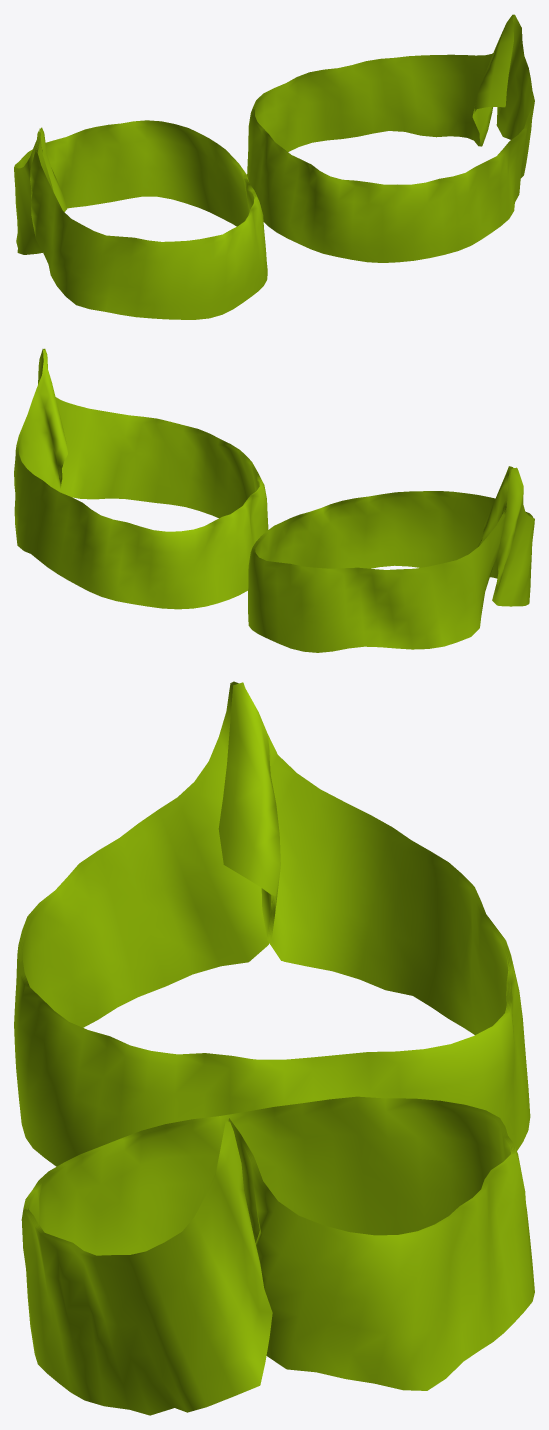
The model's file is tassels-bottom_curve.glb.
3 views of the same model, one above another, from view 1: azimuth 30°, elevation 25°; view 2: azimuth 150°, elevation 25°; view 3: azimuth 270°, elevation 25° (orthographic). The views are drawn at different scales.
Parts seen in each view (by area): view 1: tassels-bottom_curve; view 2: tassels-bottom_curve; view 3: tassels-bottom_curve.
Part boxes in pixels (x1,y1,x2,y2): tassels-bottom_curve: [14, 14, 534, 319]; tassels-bottom_curve: [14, 348, 534, 652]; tassels-bottom_curve: [14, 681, 534, 1415].
Size of the model in its own units: 2.12 by 0.7377 by 1.02.
